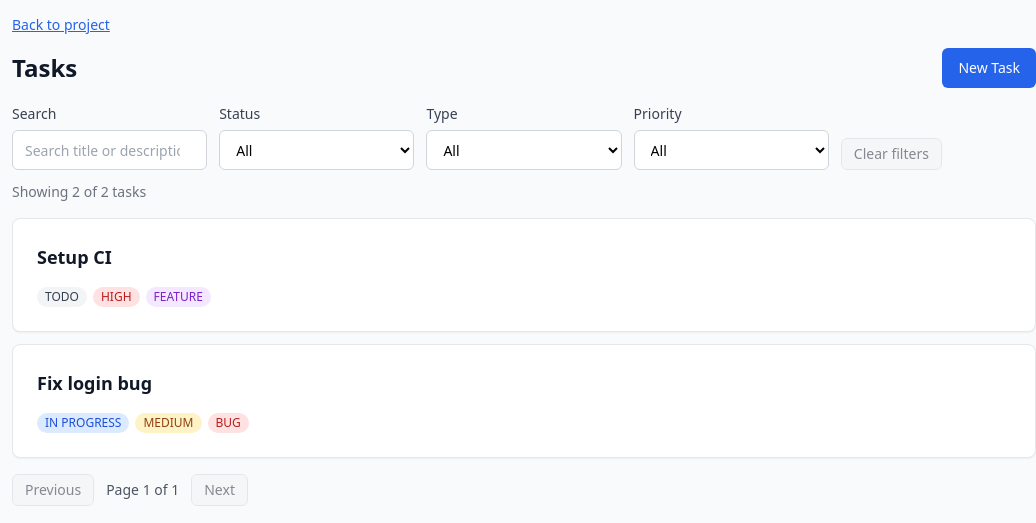
Test: Task list search and filters (behavior) › reset clears filters and restores the list (behavior)
The width and height of the screenshot is (1036, 523).
Expected: the link "Fix login bug" is shown, [37,371,152,395]
Step 1. Select "TODO" in the dropdown labelled "Status" → x=317, y=150, box [219,130,414,170]
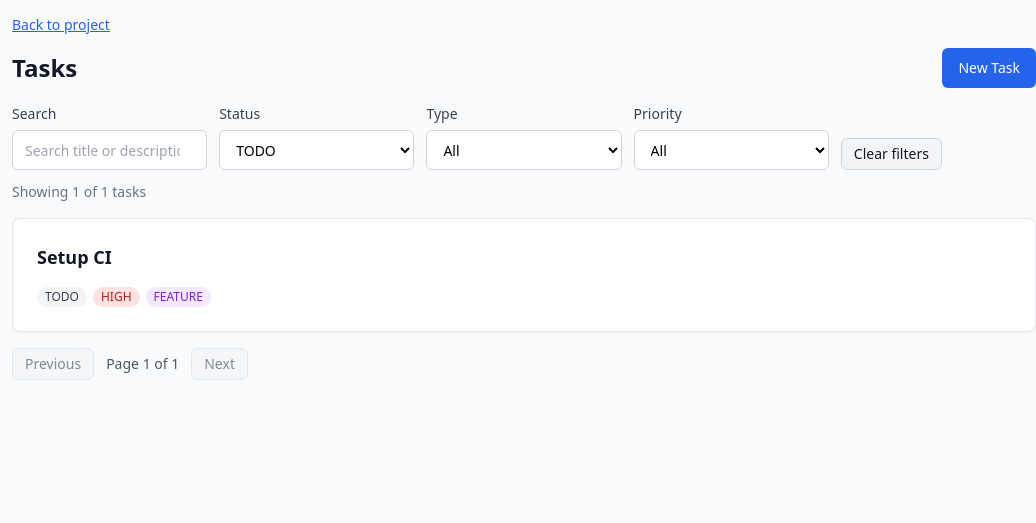
Now the link "Fix login bug" is gone
Step 2. Click the button "Clear filters" → x=891, y=154, box [841,138,942,170]
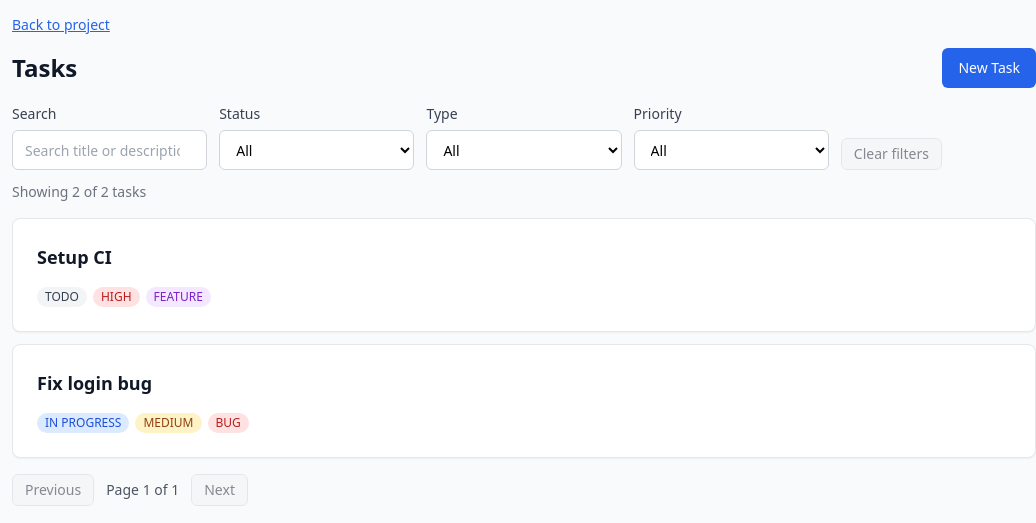
Now the link "Fix login bug" is shown, box [37,371,152,395]
